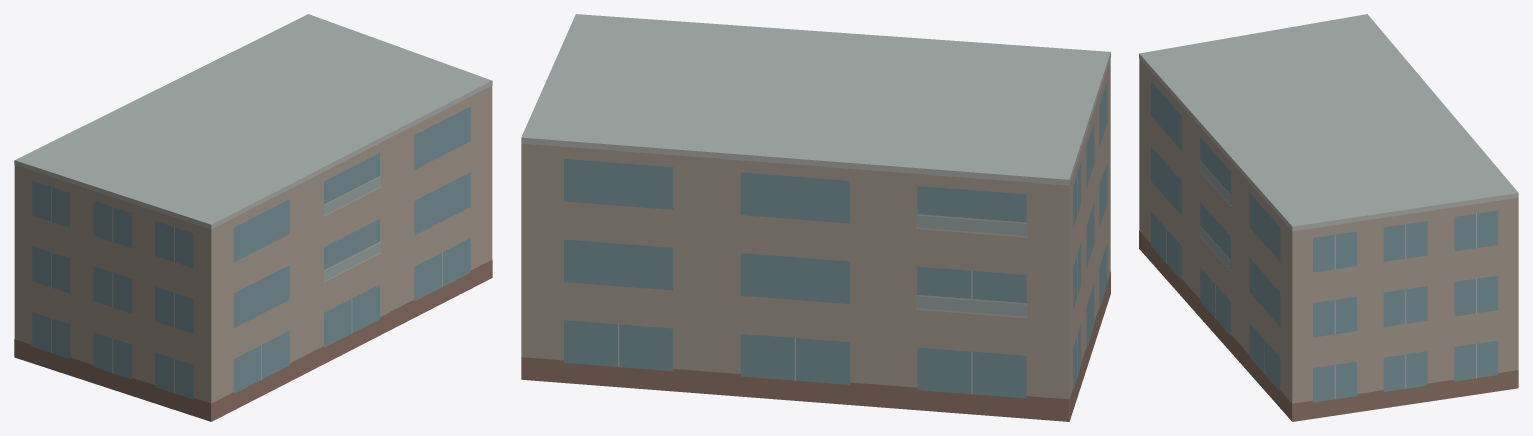
Rendered from survey-upis-32833600.glb.
3 views of the same model, side by side, from view 1: azimuth 30°, elevation 25°; view 2: azimuth 150°, elevation 25°; view 3: azimuth 270°, elevation 25° (orthographic). The views are drawn at different scales.
Visible parts, largest first — view 1: survey-upis-32833600.tmp; view 2: survey-upis-32833600.tmp; view 3: survey-upis-32833600.tmp.
Part boxes in pixels (<box>): survey-upis-32833600.tmp: <box>14,14,492,421</box>; survey-upis-32833600.tmp: <box>521,14,1110,421</box>; survey-upis-32833600.tmp: <box>1139,14,1518,421</box>.
Size of the model in its own units: 23.36 by 10 by 17.63.
